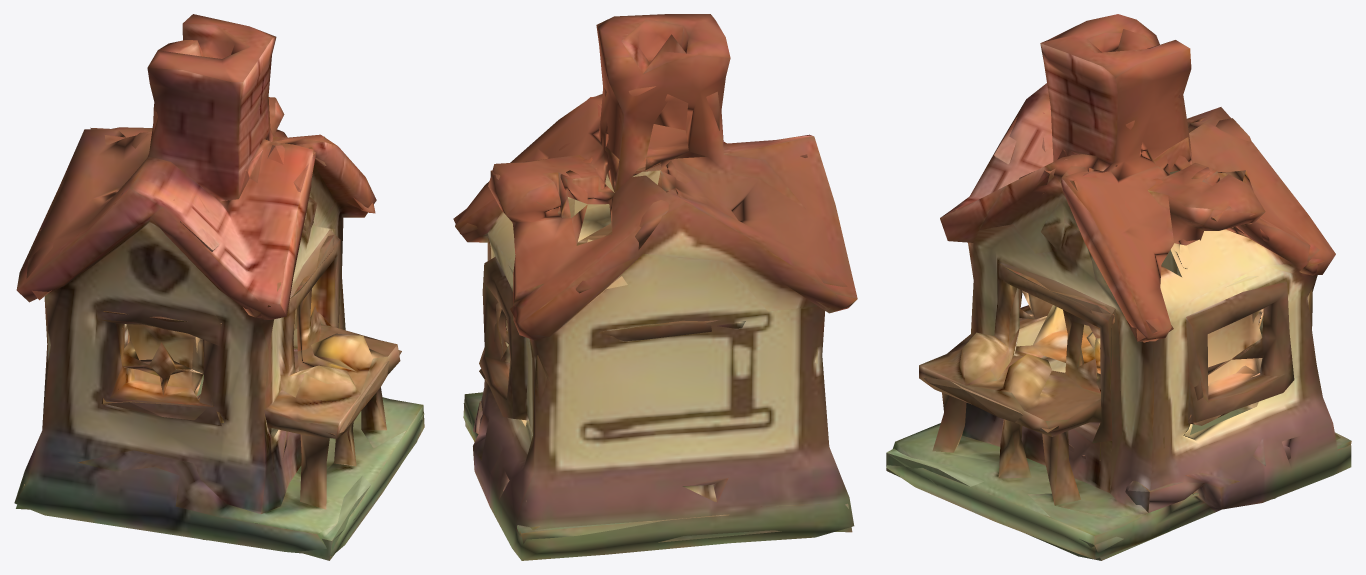
File: bakery.glb
3 views of the same model, side by side, from view 1: azimuth 30°, elevation 25°; view 2: azimuth 150°, elevation 25°; view 3: azimuth 270°, elevation 25° (orthographic). The views are drawn at different scales.
Parts seen in each view (by area): view 1: level; view 2: level; view 3: level.
Part boxes in pixels (<box>): level: <box>14,14,424,560</box>; level: <box>453,14,857,560</box>; level: <box>886,14,1351,560</box>.
Bounding box in the file's own units: 0.7119 × 0.7614 × 0.7345.
Materials: 1 (1 with a texture image).
